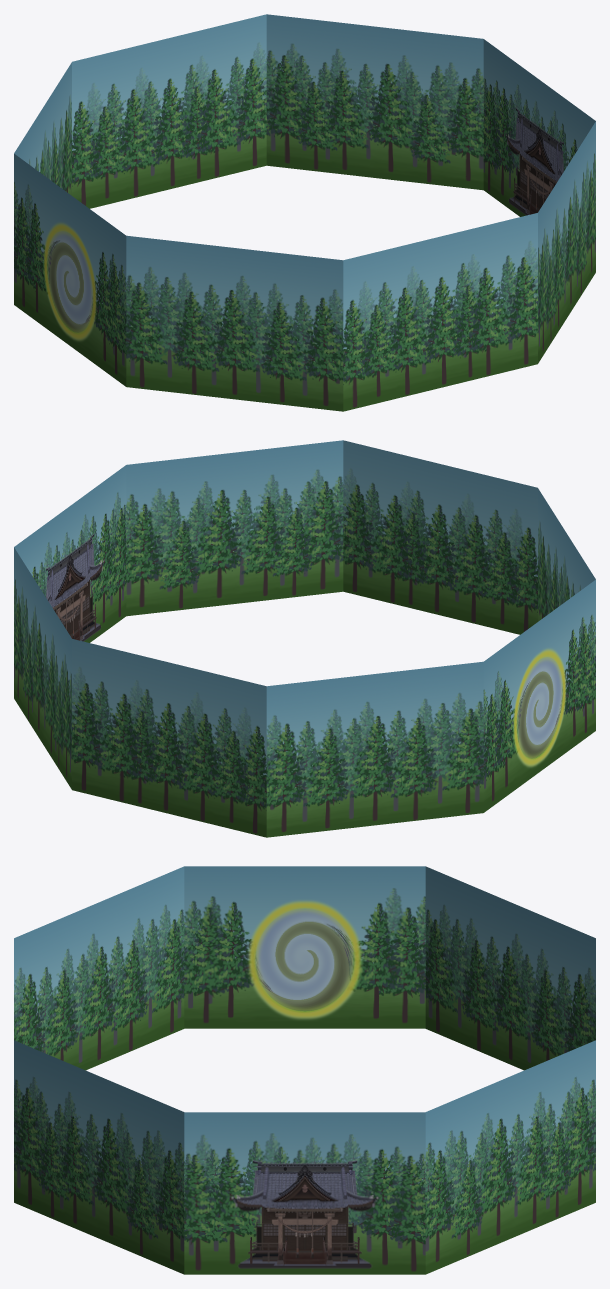
The model's file is background.fbx.
The picture shows the model from 3 angles, top to bottom: view 1: azimuth 30°, elevation 25°; view 2: azimuth 150°, elevation 25°; view 3: azimuth 270°, elevation 25°; orthographic projection. The views are drawn at different scales.
Parts seen in each view (by area): view 1: polySurface6; view 2: polySurface6; view 3: polySurface6.
Boxes of the visible parts, <box> form: polySurface6: <box>14,14,595,411</box>; polySurface6: <box>14,440,595,837</box>; polySurface6: <box>14,866,595,1274</box>.
Bounding box in the file's own units: 3455 × 1065 × 3455.
